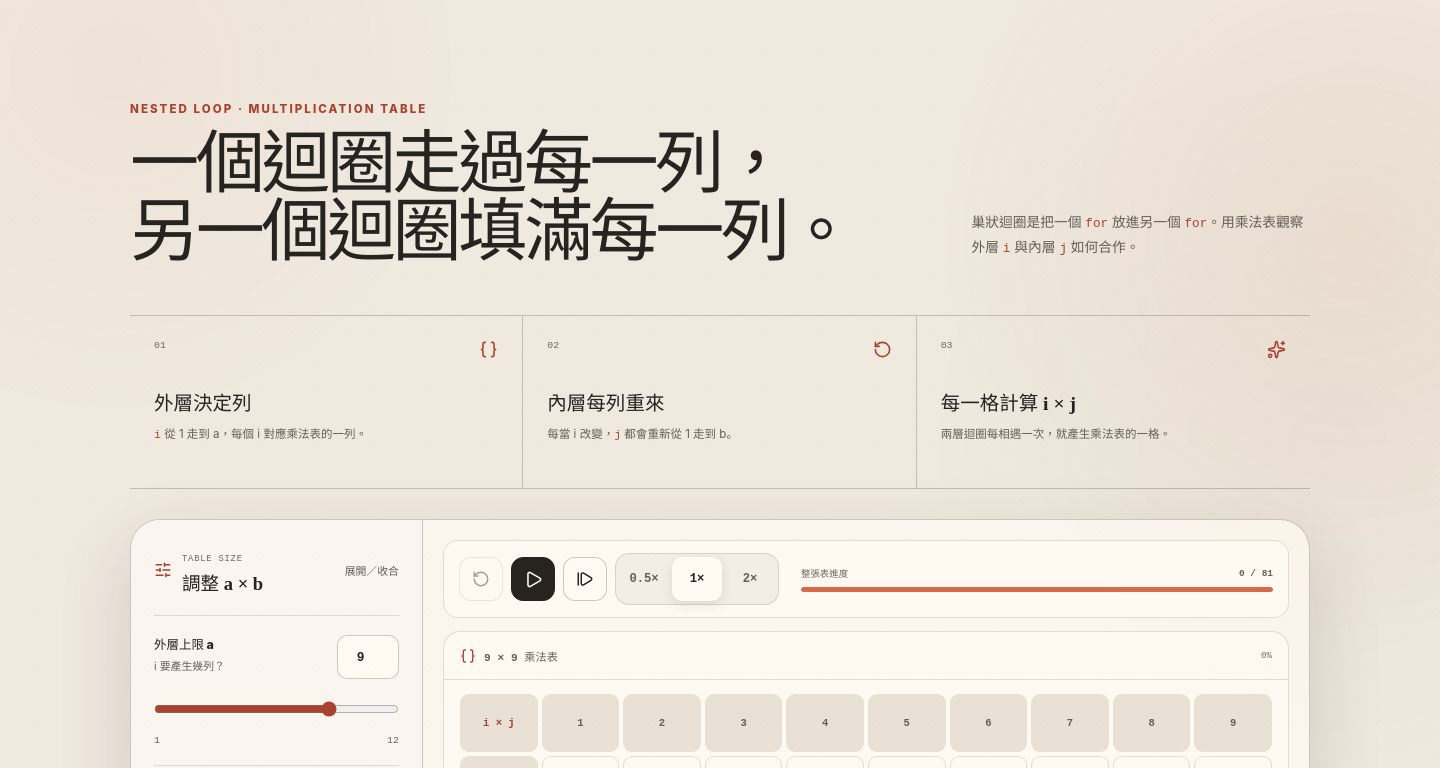
Test: NestedLoopLab › stops and resets the trace immediately when a dimension changes
Replace the text in the number field labelled "外層上限 a i 要產生幾列？" with "2". click: (368, 658)
box: x1=337 y1=636 x2=399 y2=680
(page scrolled)
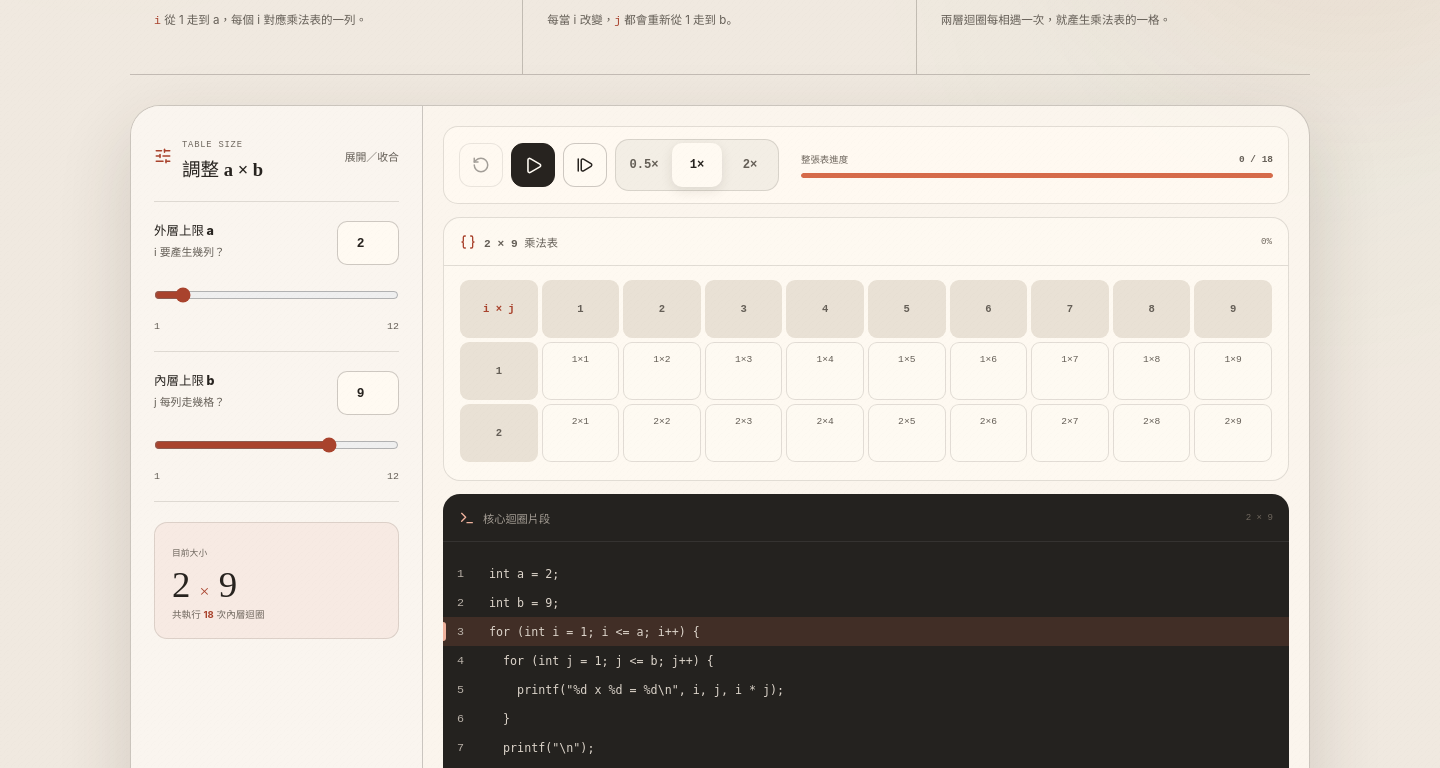
Replace the text in the number field labelled "內層上限 b j 每列走幾格？" with "2". click: (368, 394)
box: x1=337 y1=372 x2=399 y2=416
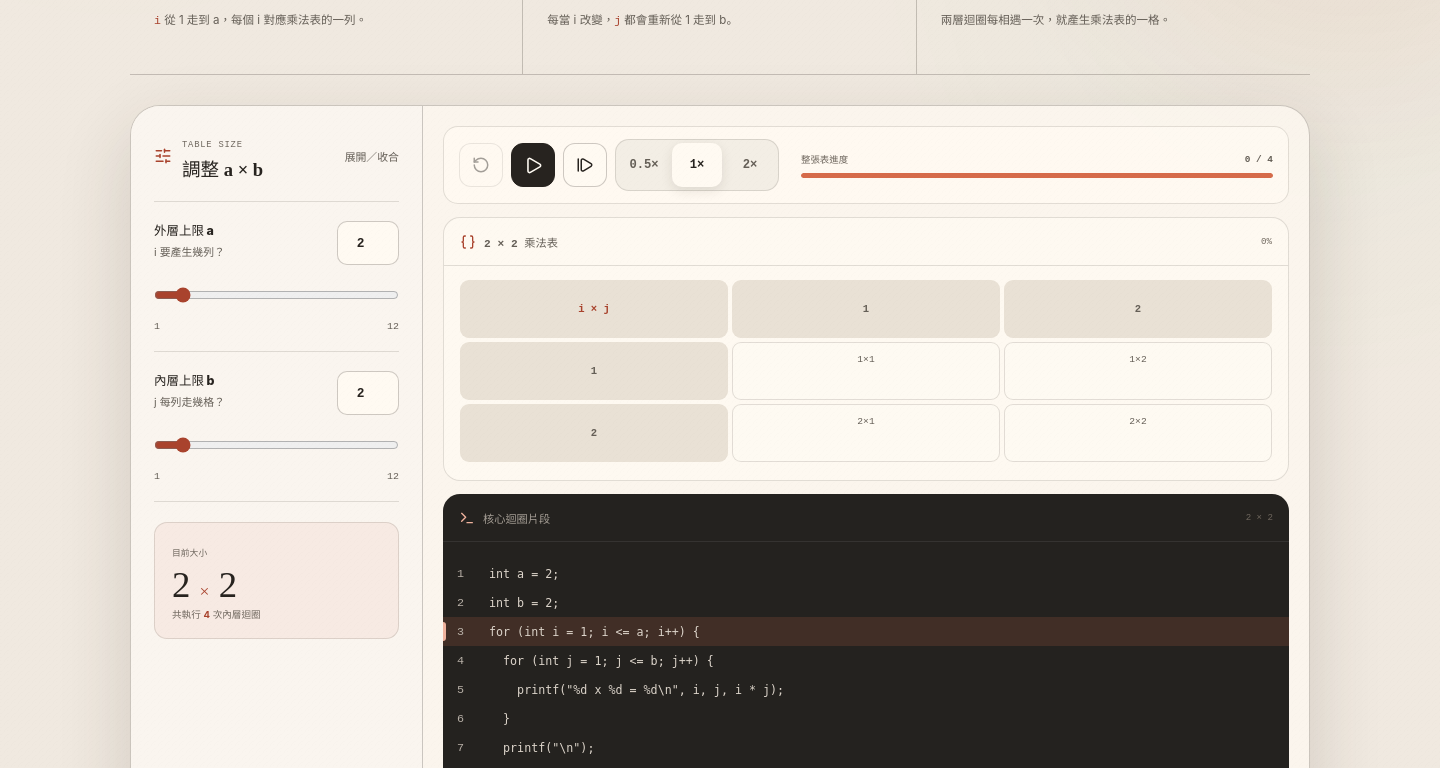
Click the button named "巢狀迴圈：開始播放". click: (533, 166)
box: x1=511 y1=144 x2=555 y2=188
Wait 560 ms
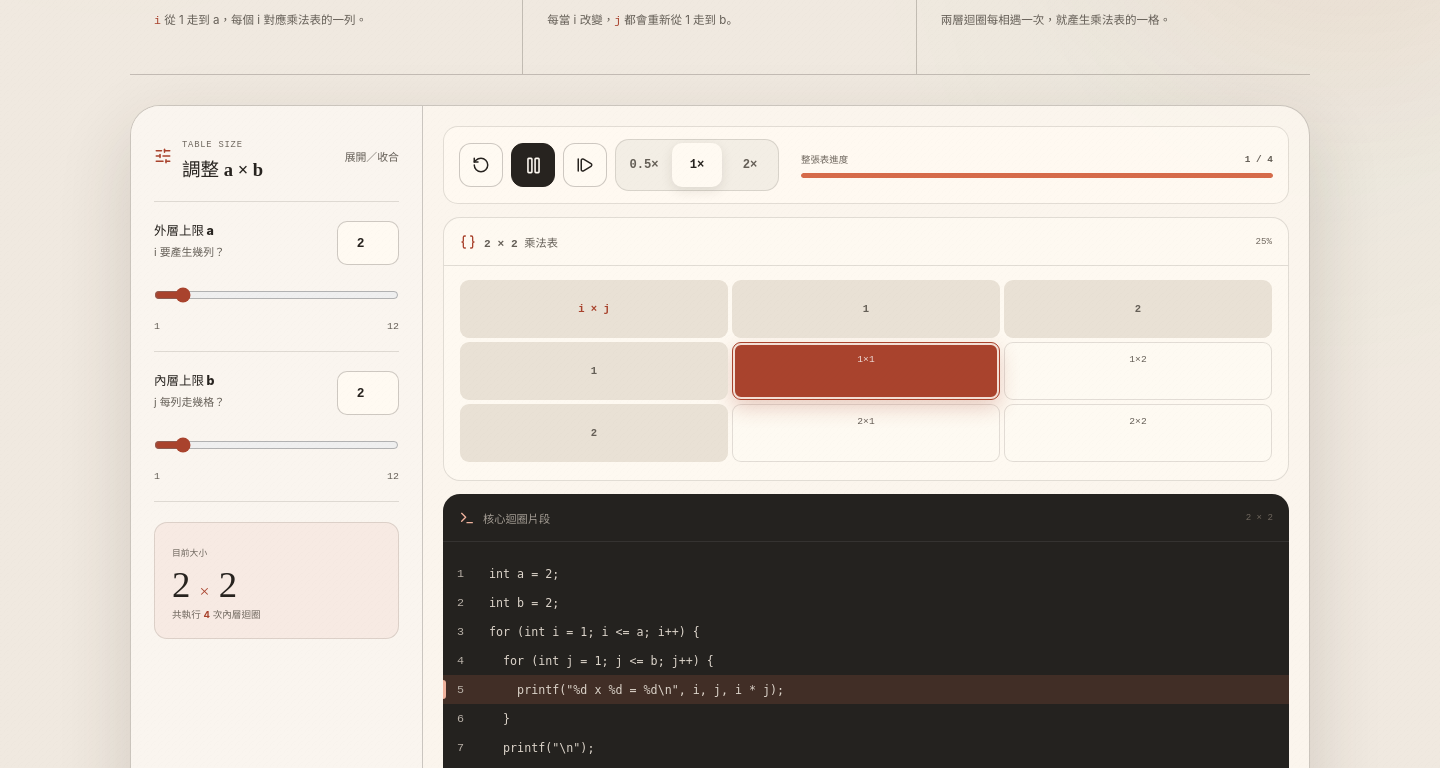
Expected: the table named "2 × 2 乘法表，已完成 1 格" is shown, x1=456 y1=276 x2=1276 y2=466
Replace the text in the number field labelled "外層上限 a i 要產生幾列？" with "3". click: (368, 244)
box: x1=337 y1=222 x2=399 y2=266
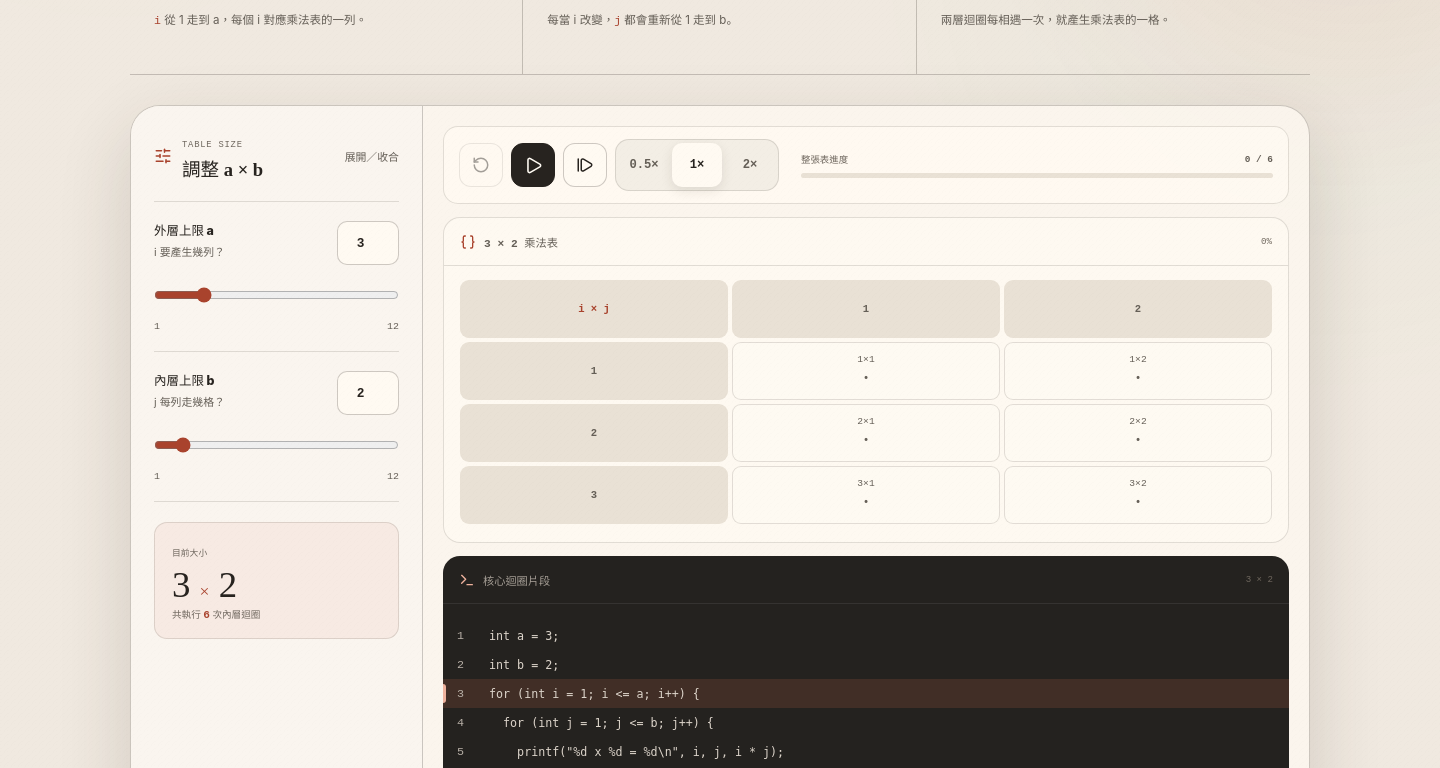
Expected: the button named "巢狀迴圈：開始播放" is shown, x1=511 y1=144 x2=555 y2=188
Expected: the table named "3 × 2 乘法表，已完成 0 格" is shown, x1=456 y1=276 x2=1276 y2=528
